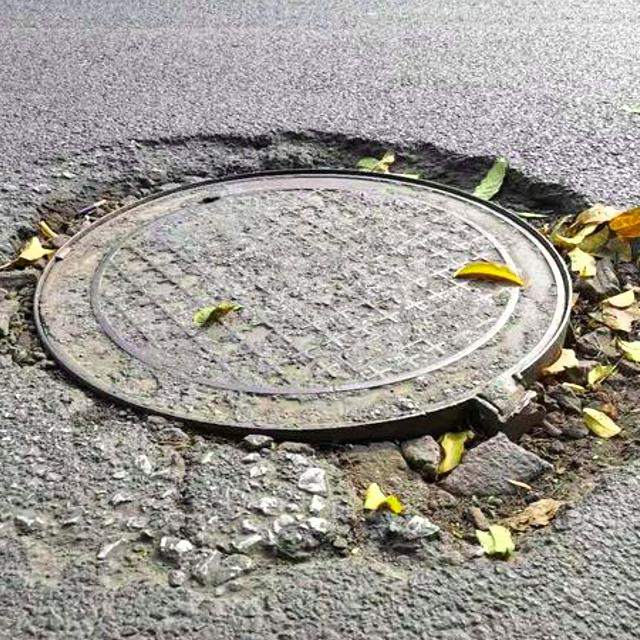circle: (0, 128, 640, 569)
